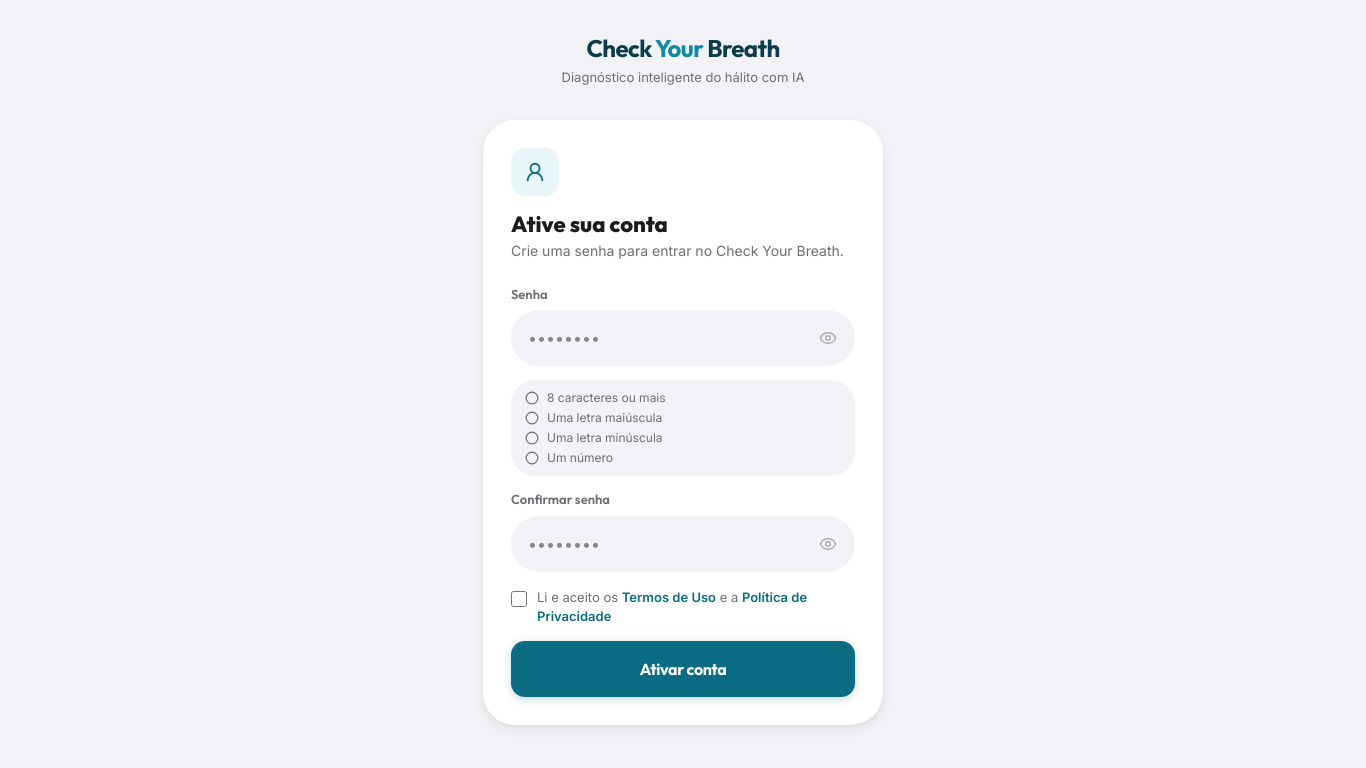
it: convite › o nome do termo abre o texto sem marcar a caixa
Type "NovaSenha123" into the password field labelled "Senha" at (683, 338), box top-left (511, 310), bottom-right (855, 366)
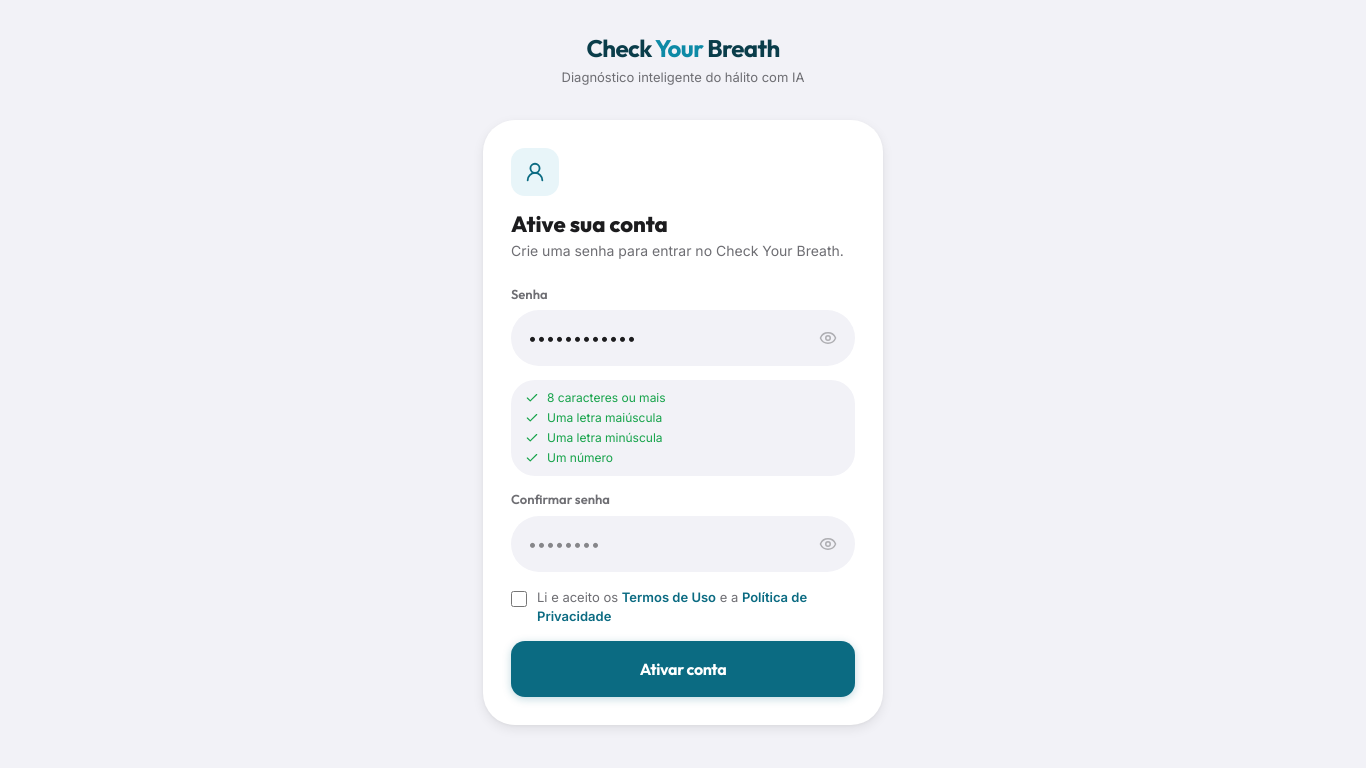
Type "NovaSenha123" into the password field labelled "Confirmar senha" at (683, 544), box top-left (511, 516), bottom-right (855, 572)
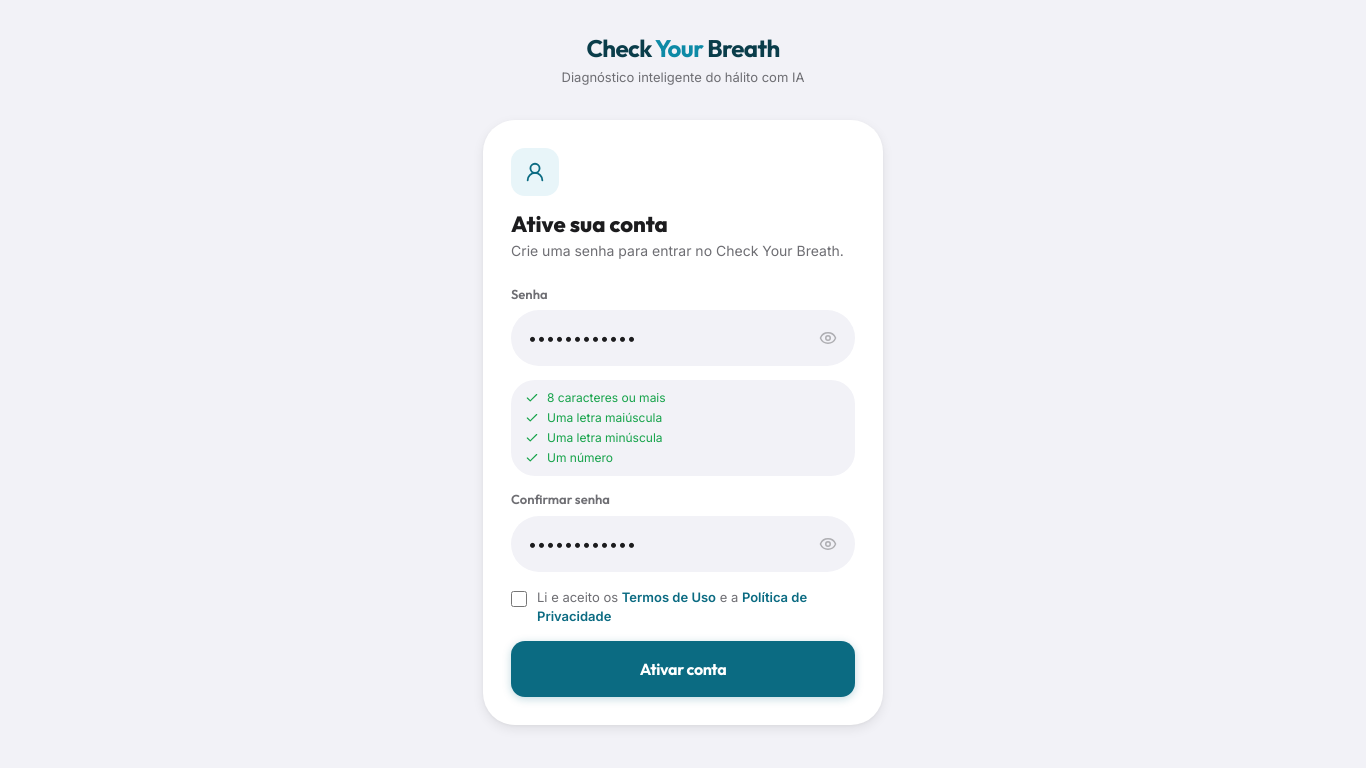
Click the checkbox labelled "Li e aceito os Termos de Uso e a Política de Privacidade" at (519, 599), box top-left (511, 591), bottom-right (527, 607)
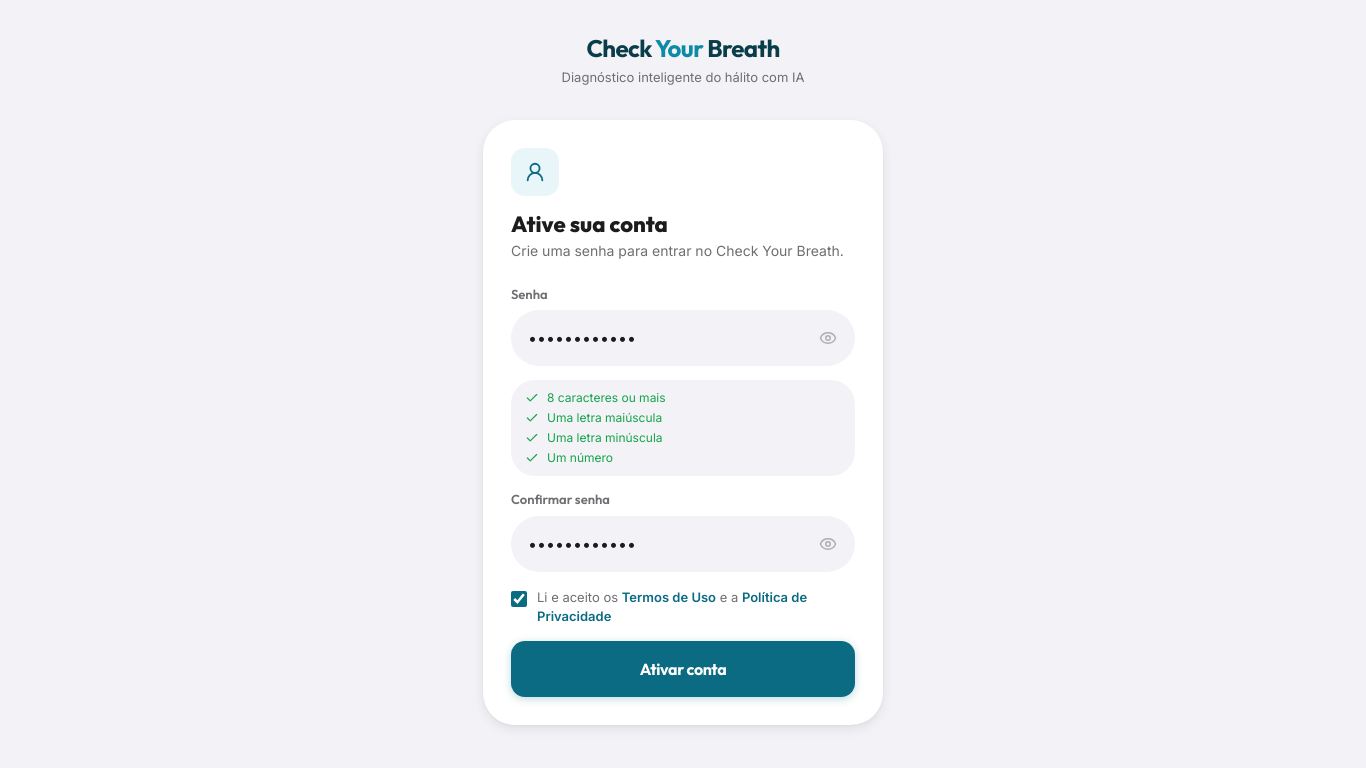
Click the button "Ativar conta" at (683, 669), box top-left (511, 641), bottom-right (855, 697)
(page scrolled)
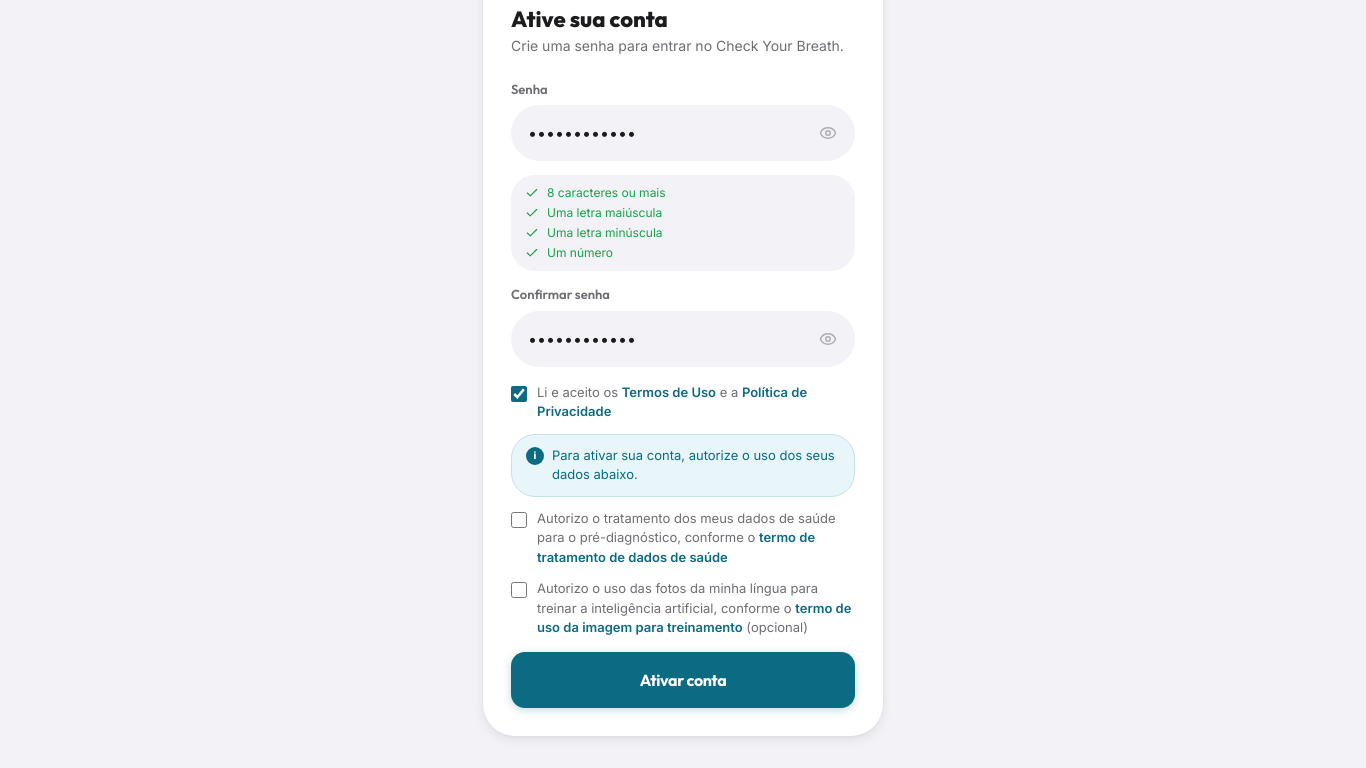
expect the checkbox labelled "dados de saúde" is shown: met, box top-left (511, 512), bottom-right (527, 528)
Click the button "termo de tratamento de dados de saúde" at (787, 537), box top-left (537, 529), bottom-right (815, 565)
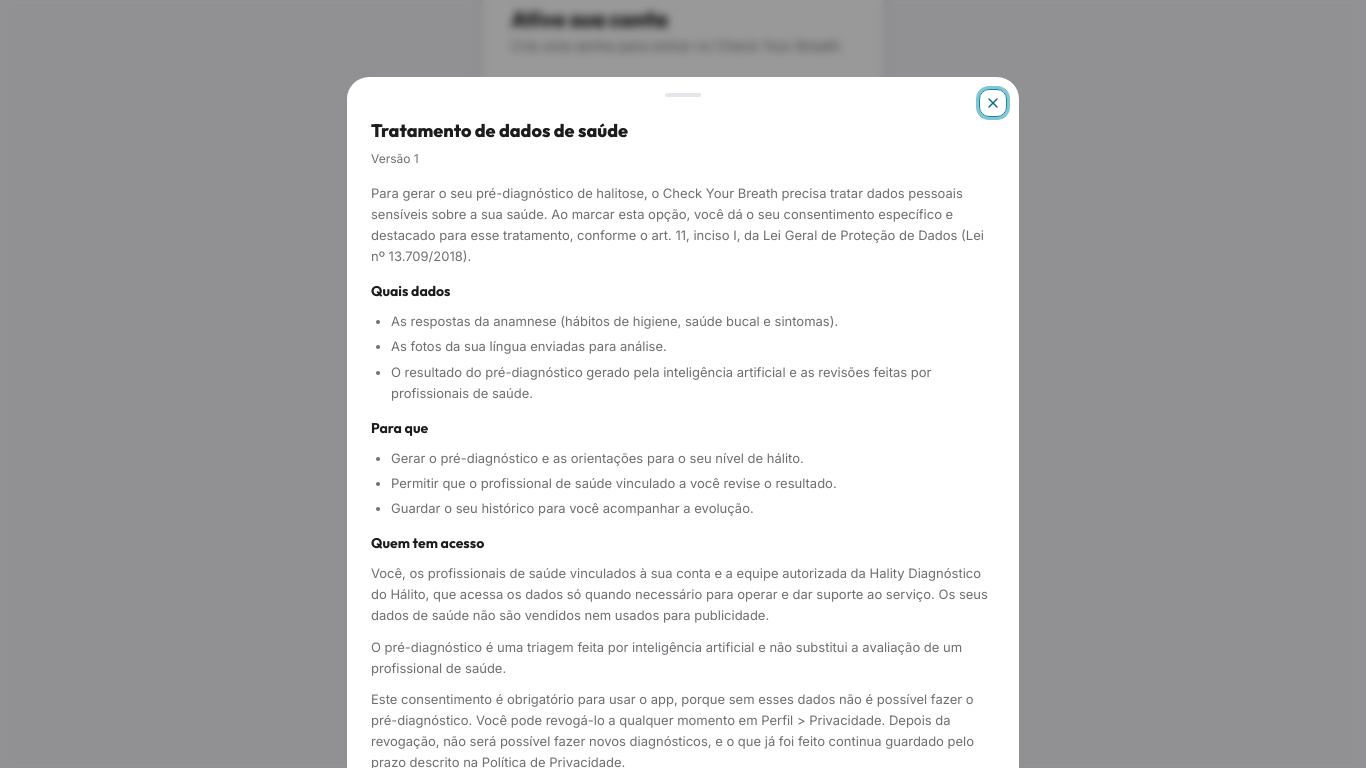
expect the dialog "Tratamento de dados de saúde" is shown: met, box top-left (347, 77), bottom-right (1019, 767)
